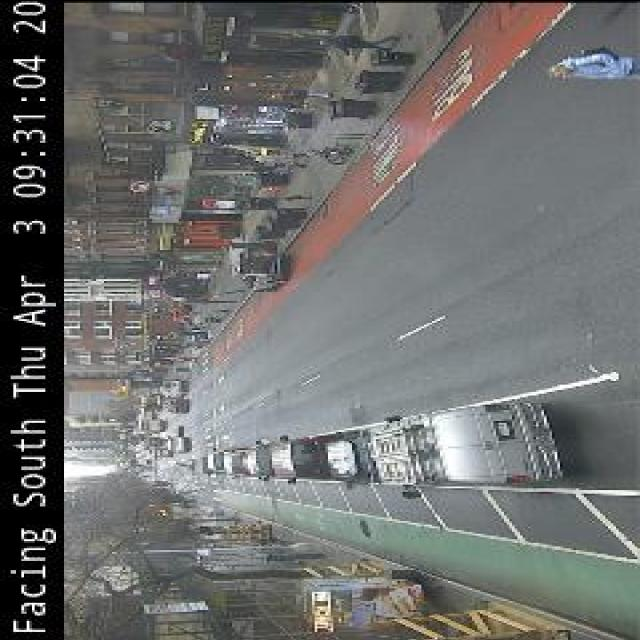open parking: (196, 366, 640, 498)
